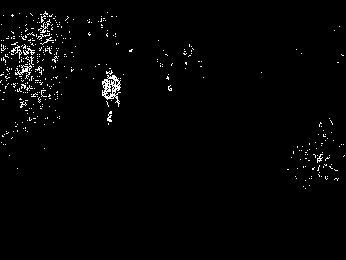person: (101, 69, 121, 126), (155, 52, 174, 94)
